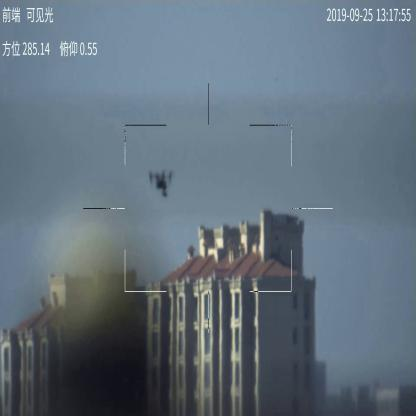uav: (149, 169, 173, 197)
